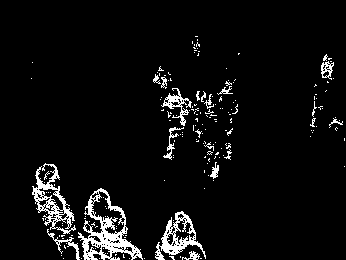person: (31, 162, 77, 255), (164, 87, 188, 160), (194, 90, 207, 142)
